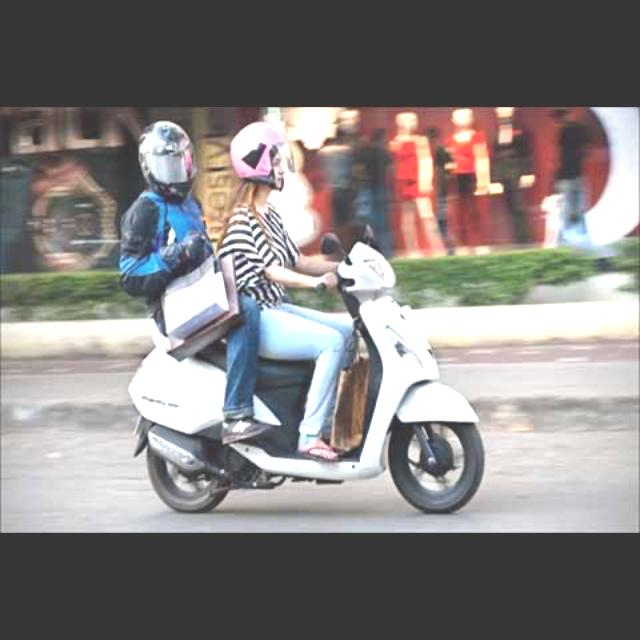With Helmet: (224, 120, 292, 192)
